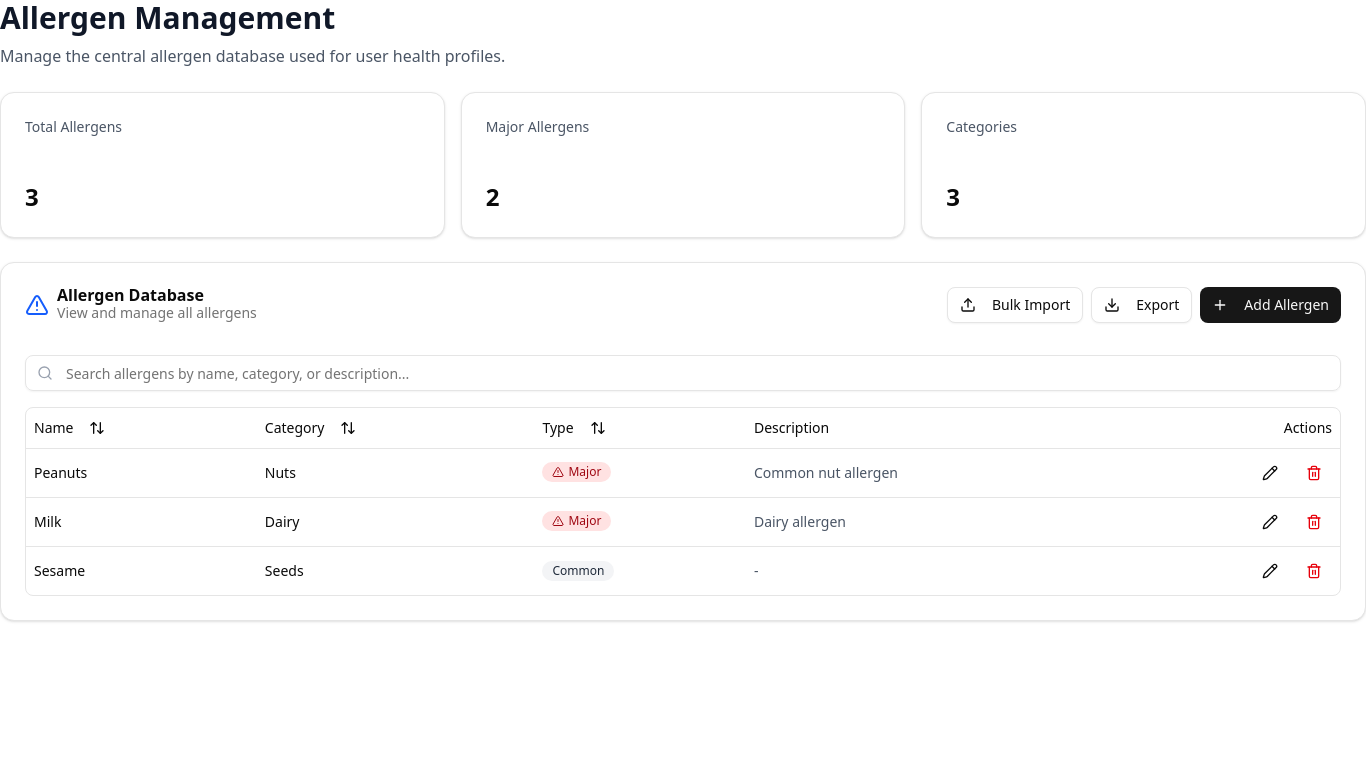
Test case: AllergenManagement › opens create dialog when Add Allergen is clicked
The image size is (1366, 768).
Check: the text "Peanuts" is shown, box [34,462,87,482]
Step 1. Click the button "Add Allergen" → coordinates (1271, 305), box [1200,287,1341,323]
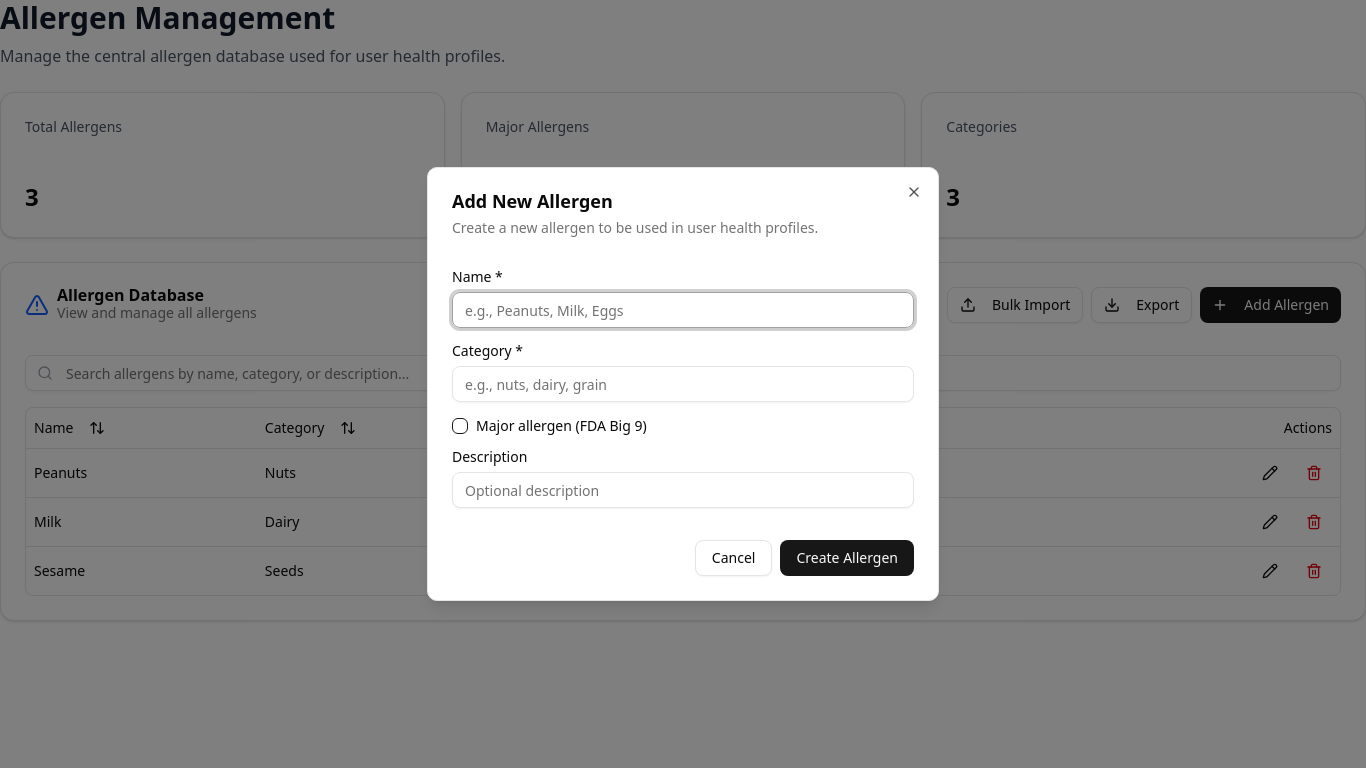
Check: the heading "Add New Allergen" is shown, box [452,189,613,213]
